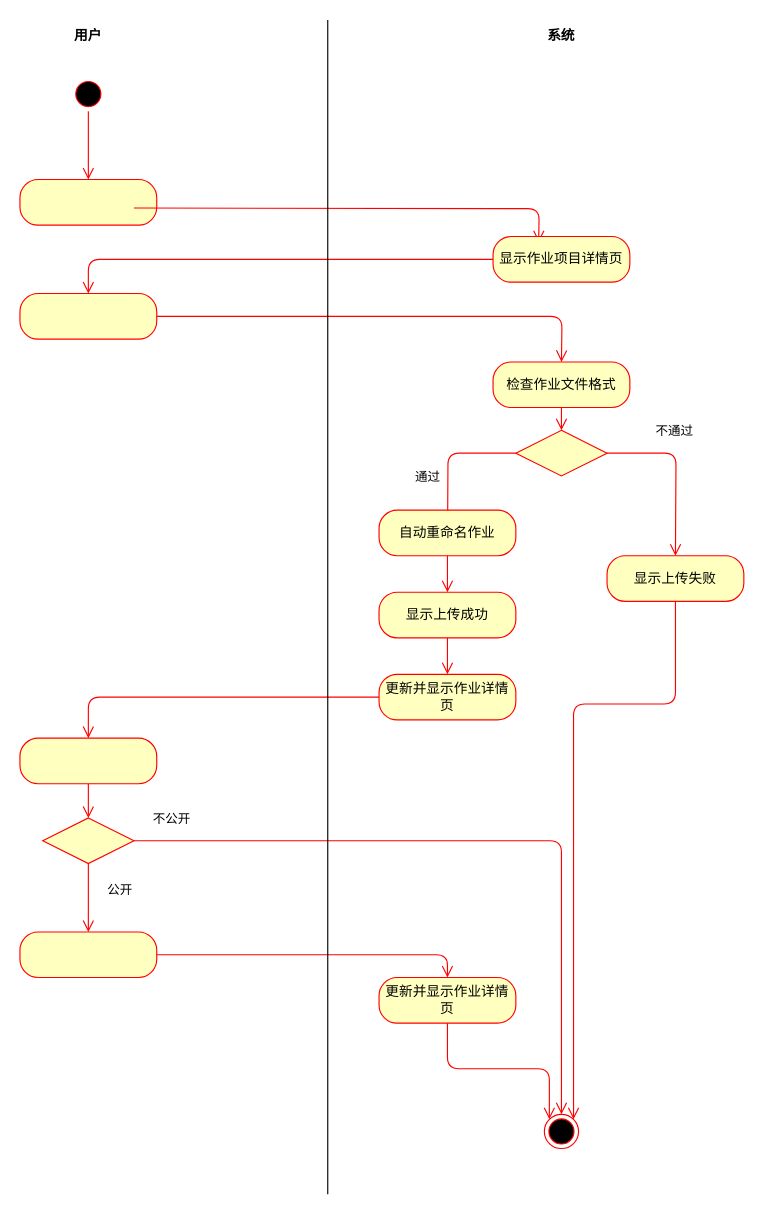
Some shapes in this 764 by 1214 pixel diagram are drawn without their labels. The centre of each missing label's shape, as x and y in pixels:
拖拽或手动选择文件进行作业上传: (x=88, y=315)
用户选择是否公开作业: (x=88, y=760)
自定义公开日期: (x=88, y=954)
请求打开所选作业项目: (x=88, y=201)
